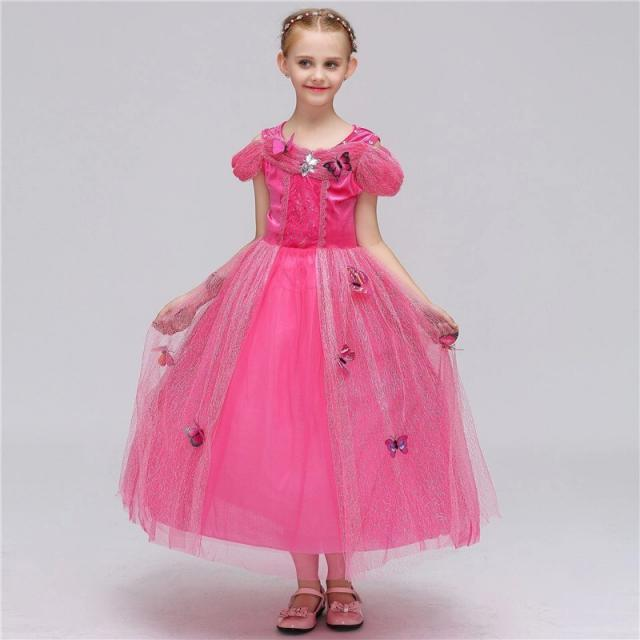clothes: (174, 121, 446, 553)
